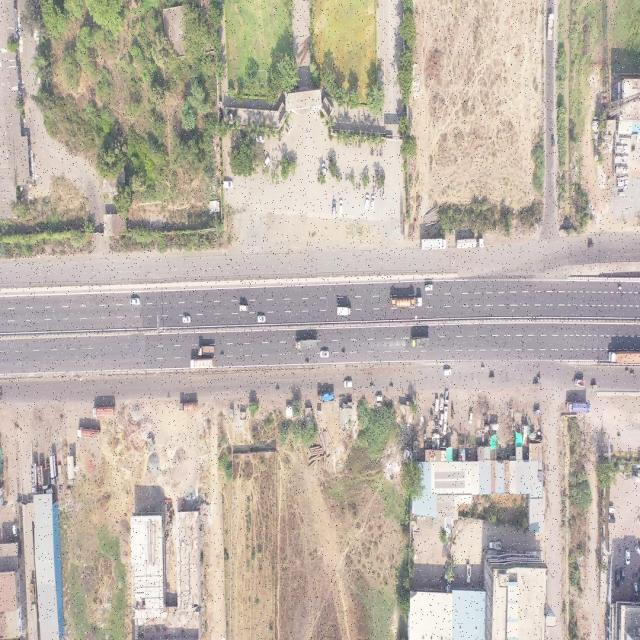3W: (489, 422, 499, 431), (534, 409, 541, 416), (551, 138, 555, 149), (588, 242, 594, 249), (533, 382, 540, 387), (591, 384, 598, 389), (490, 376, 496, 381)
Cars: (625, 549, 631, 566), (364, 194, 370, 210), (442, 421, 448, 436), (615, 571, 620, 588), (633, 583, 639, 597), (130, 298, 140, 306), (12, 525, 18, 538), (320, 350, 329, 358), (344, 380, 353, 388), (223, 182, 233, 189), (322, 164, 327, 178), (620, 568, 625, 582), (332, 201, 336, 217), (371, 194, 375, 210), (443, 368, 451, 376), (182, 316, 191, 323), (257, 316, 266, 323), (609, 515, 616, 524), (435, 399, 439, 414), (440, 397, 444, 412), (339, 198, 342, 217), (609, 505, 615, 514), (469, 411, 473, 424), (376, 395, 383, 402)
LCV: (548, 12, 554, 41), (337, 306, 352, 317), (489, 541, 502, 551), (574, 379, 586, 389), (466, 564, 471, 584), (239, 304, 248, 312), (425, 284, 434, 291), (445, 390, 449, 403)
M2W: (618, 545, 622, 552), (630, 371, 635, 376), (617, 433, 622, 438), (372, 175, 375, 183), (631, 146, 635, 152), (632, 571, 635, 579), (358, 181, 360, 191), (380, 188, 382, 198), (370, 384, 374, 389), (537, 375, 541, 380), (389, 384, 393, 389), (373, 185, 375, 194), (356, 181, 358, 190), (353, 183, 355, 192), (345, 172, 347, 181), (372, 147, 374, 156), (371, 147, 373, 156), (381, 148, 383, 157), (359, 173, 361, 181), (383, 187, 385, 195), (347, 173, 349, 181), (340, 173, 342, 181), (378, 142, 380, 150), (376, 150, 378, 158), (341, 350, 345, 354), (482, 366, 486, 370), (618, 286, 622, 290), (574, 393, 578, 397), (276, 387, 280, 391), (222, 352, 225, 357), (355, 141, 357, 148), (636, 571, 638, 578), (306, 360, 310, 363), (626, 369, 630, 372), (349, 174, 350, 181)
MAV: (608, 351, 640, 364), (390, 296, 423, 307), (421, 238, 447, 250), (456, 238, 484, 249), (78, 428, 100, 440), (49, 454, 57, 486), (190, 358, 215, 368), (93, 406, 115, 417), (31, 462, 38, 494), (179, 400, 198, 411), (29, 584, 36, 612)
Truck: (566, 402, 590, 413), (295, 340, 317, 350), (411, 337, 430, 348), (317, 391, 334, 402), (198, 346, 214, 356)
